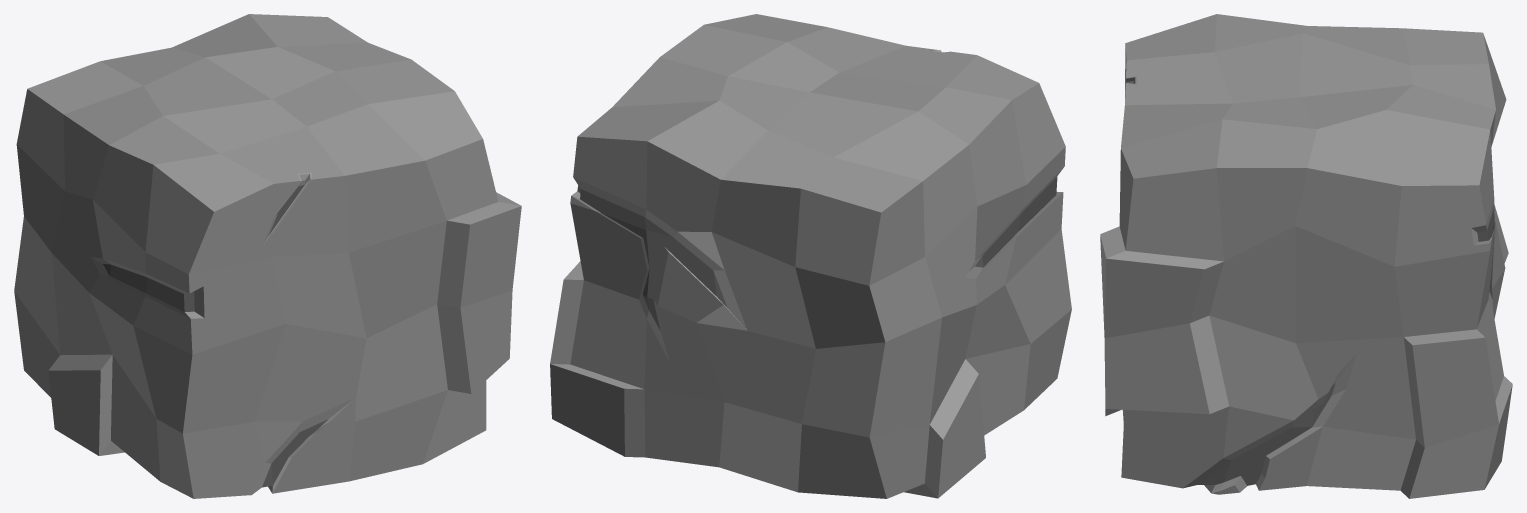
File: stone.fbx
3 renders of one model, left to right at view 1: azimuth 30°, elevation 25°; view 2: azimuth 150°, elevation 25°; view 3: azimuth 270°, elevation 25°, orthographic. The views are drawn at different scales.
Parts seen in each view (by area): view 1: Stone; view 2: Stone; view 3: Stone.
Boxes of the visible parts, x1,y1,x2,y2 form: Stone: (14,14,521,498); Stone: (550,14,1071,498); Stone: (1100,14,1512,498).
Bounding box in the file's own units: 2.28 × 2.13 × 2.26.
